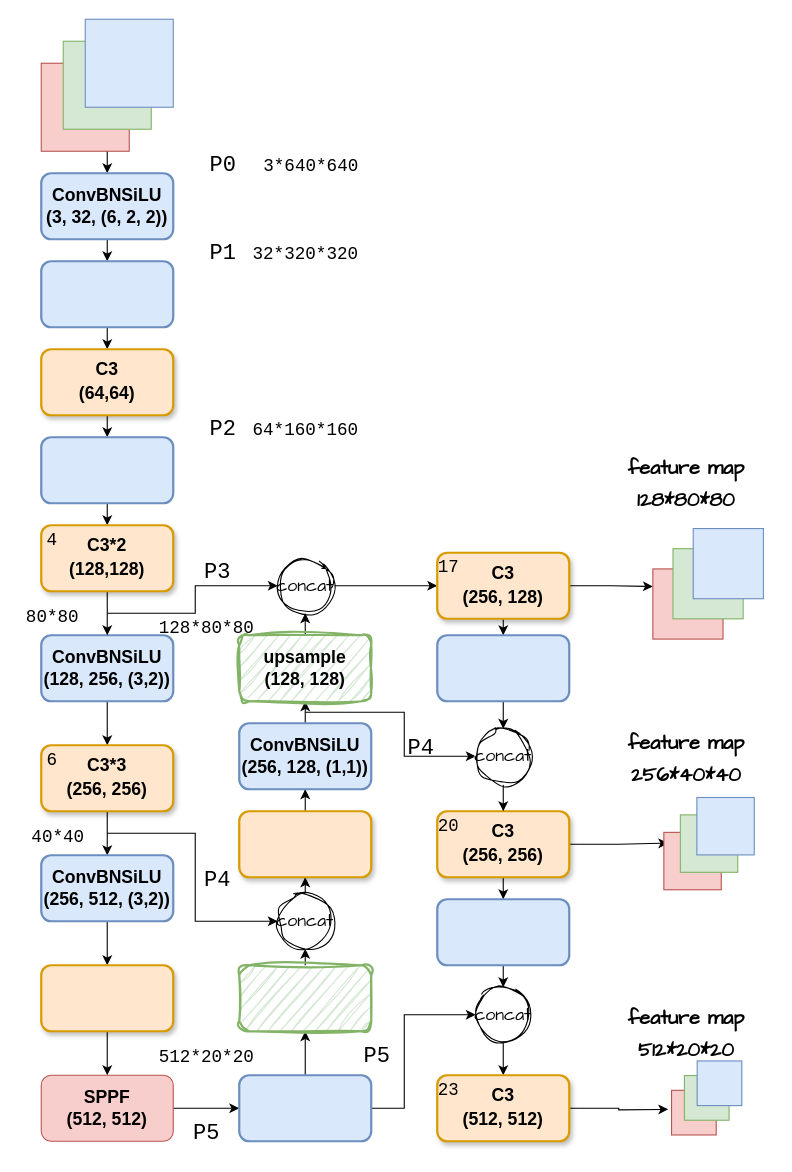
This 792x1172 diagram has some shape labels left out. The centre of each missing label's shape, as x and y in pixels:
"C3 (512, 256)" belongs at pixel 305 845.
"C3*3 (512, 512)" belongs at pixel 107 999.
"ConvBNSiLU (128, 128, (3,2))" belongs at pixel 503 668.
"ConvBNSiLU (256, 256, (3,2))" belongs at pixel 503 932.
"ConvBNSiLU (32, 64, (3, 2))" belongs at pixel 107 294.
"ConvBNSiLU (512, 256, (1,1))" belongs at pixel 305 1108.
"ConvBNSiLU (64, 128, (3, 2))" belongs at pixel 107 470.
"upsample (256, 256)" belongs at pixel 305 998.
